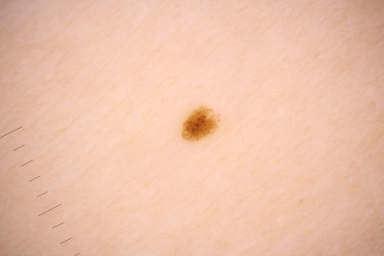melanoma: (177, 106, 221, 143)
